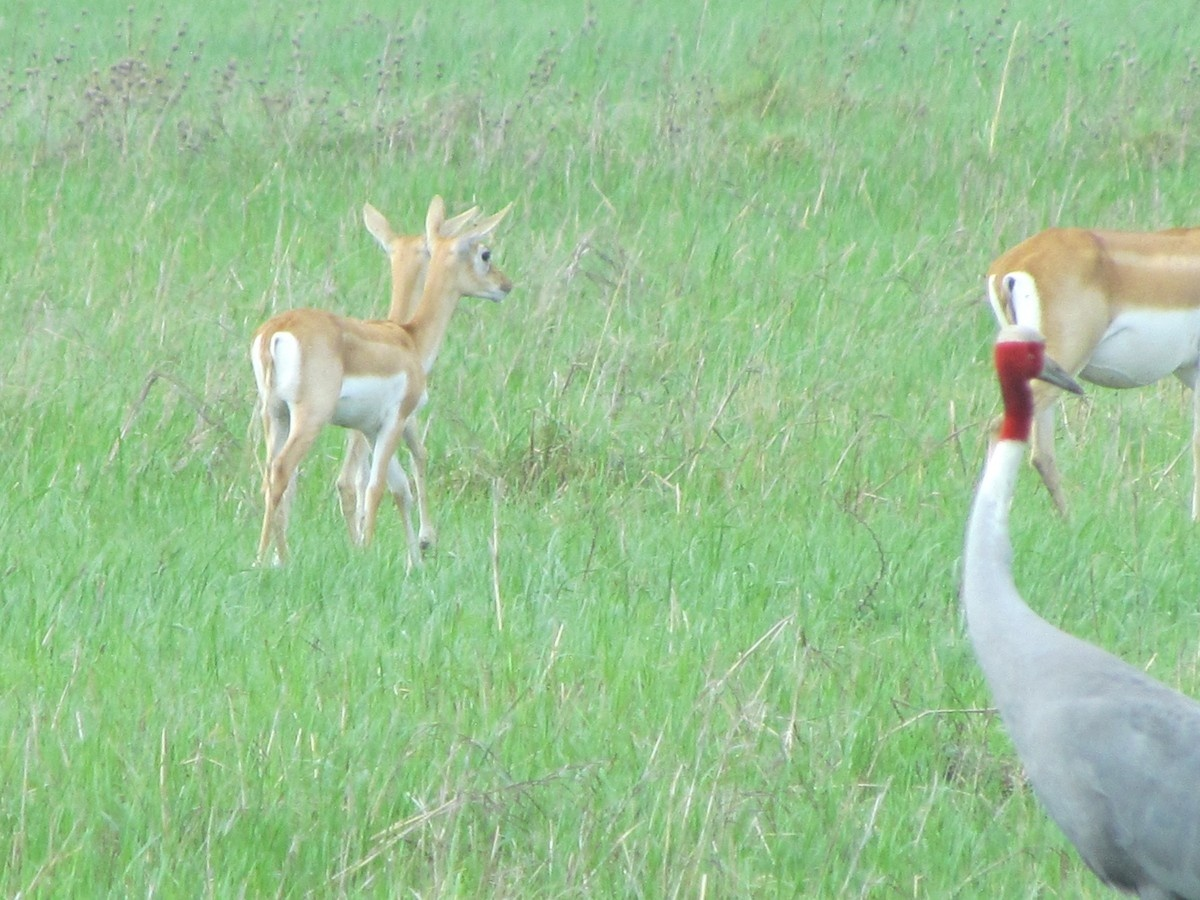crane: (958, 328, 1200, 893)
